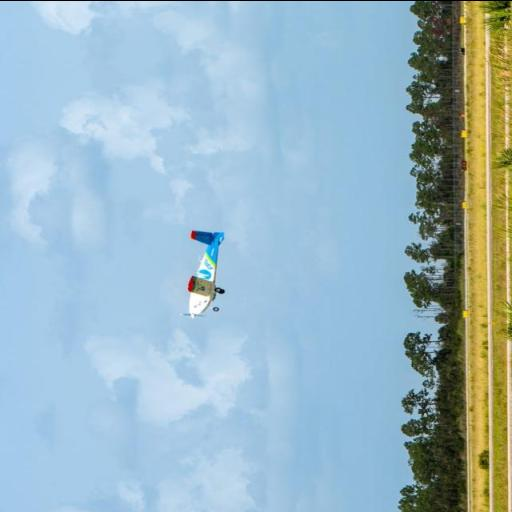uav: (170, 226, 236, 320)
